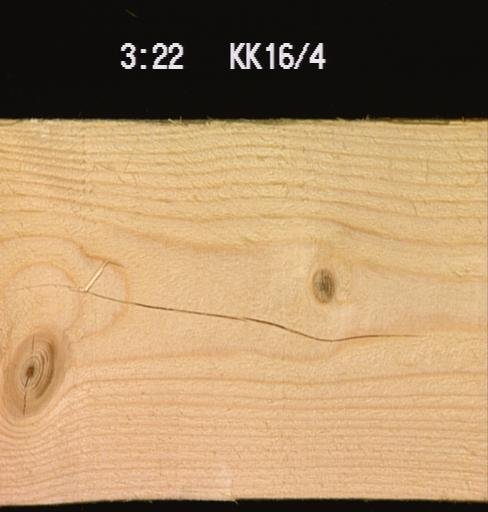sound_knot: (2, 331, 58, 417), (309, 265, 336, 304)
split: (86, 289, 428, 342)
